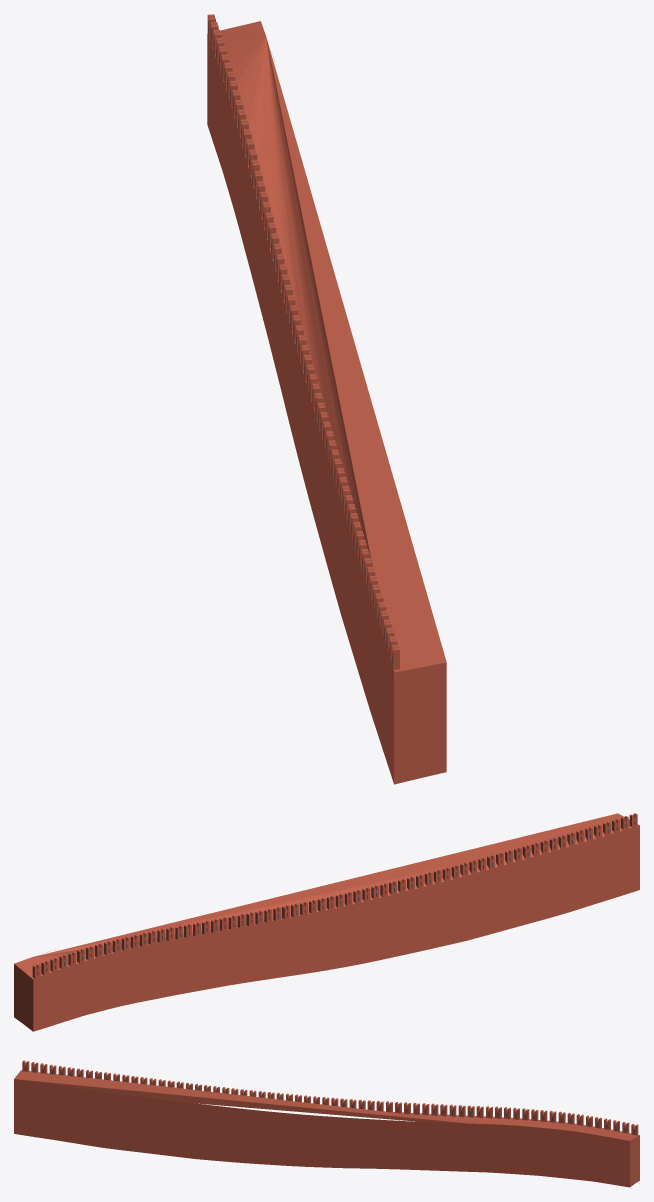
File: moscow-kremlin-wall-commandants-armoury.glb
3 renders of one model, top to bottom at view 1: azimuth 30°, elevation 25°; view 2: azimuth 150°, elevation 25°; view 3: azimuth 270°, elevation 25°, orthographic. The views are drawn at different scales.
Visible parts, largest first — view 1: Kremlin Wall, Commandant's Tower to Armoury Tower; view 2: Kremlin Wall, Commandant's Tower to Armoury Tower; view 3: Kremlin Wall, Commandant's Tower to Armoury Tower.
Part boxes in pixels (x1,y1,x2,y2): Kremlin Wall, Commandant's Tower to Armoury Tower: [207, 14, 446, 784]; Kremlin Wall, Commandant's Tower to Armoury Tower: [14, 813, 639, 1031]; Kremlin Wall, Commandant's Tower to Armoury Tower: [14, 1060, 639, 1187].
Size of the model in its own units: 56 by 24.11 by 128.
